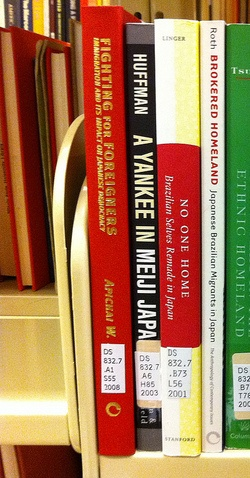call_number: (162, 348, 192, 400), (134, 351, 160, 400), (100, 343, 125, 393)
